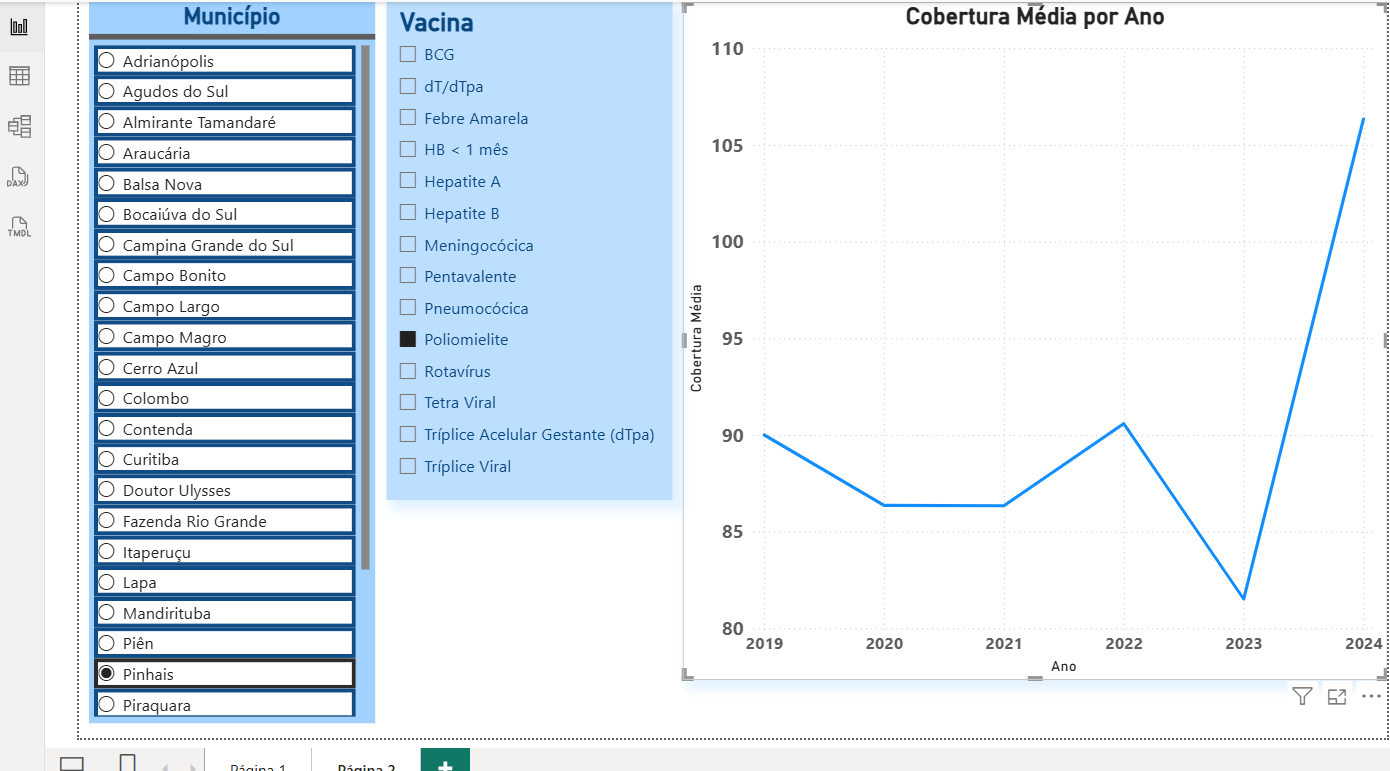

The page's visual inventory and layout, read from the dashboard file:
{"tool":"powerbi","page":{"name":"Página 2","canvas":[1280,720],"ordinal":1},"visuals":[{"type":"listSlicer","fields":{"Values":["Cobertura Vacinal.Município"]},"box":[9.6,0,279.9,705.3],"z":0},{"type":"lineChart","fields":{"Category":["Cobertura Vacinal.Ano"],"Y":["Cobertura Vacinal.Cobertura Média"]},"box":[590.1,0,690.2,662.8],"z":1000},{"type":"slicer","fields":{"Values":["Cobertura Vacinal.Vacina"]},"box":[300.5,0,279.9,487.1],"z":2000}]}

Visuals, with their boxes on the page's 1280x720 design canvas (x1, y1, x2, y2). These are canvas units, not pixel positions in the 1390x771 screenshot, which may show the page scaled, cropped or inside an application window:
listSlicer - Cobertura Vacinal.Município: [left=10, top=0, right=290, bottom=705]
lineChart - Cobertura Vacinal.Ano x Cobertura Vacinal.Cobertura Média: [left=590, top=0, right=1280, bottom=663]
slicer - Cobertura Vacinal.Vacina: [left=300, top=0, right=580, bottom=487]
